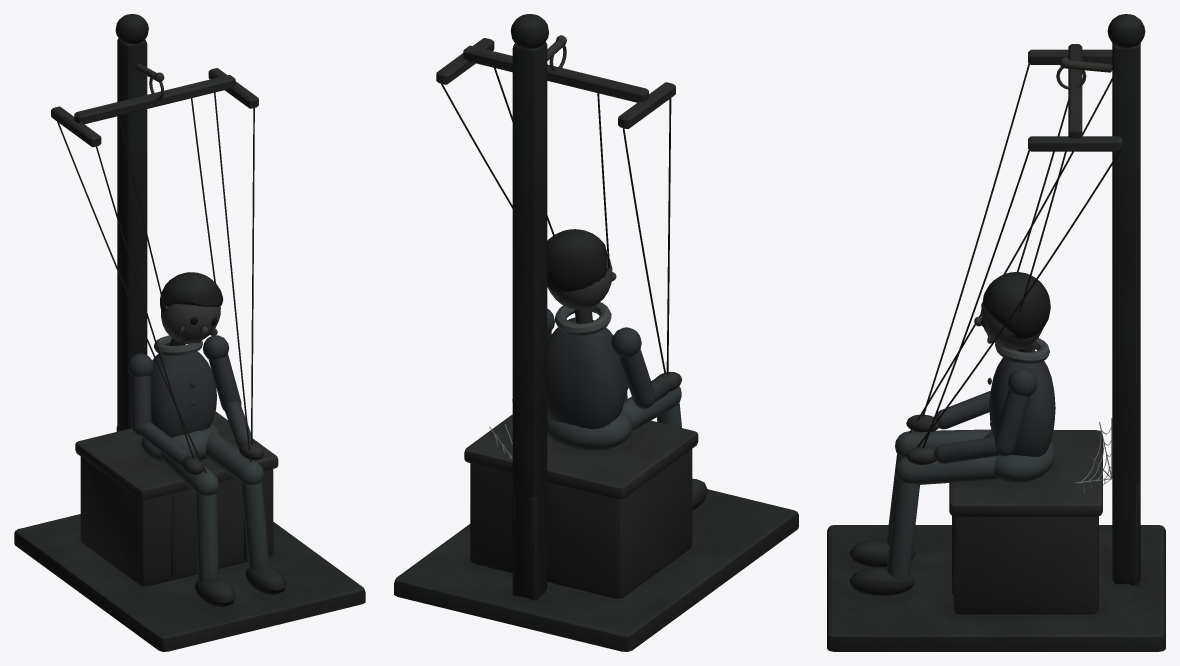
File: creepy-puppet.glb
The picture shows the model from 3 angles, left to right: view 1: azimuth 30°, elevation 25°; view 2: azimuth 150°, elevation 25°; view 3: azimuth 270°, elevation 25°; orthographic projection. The views are drawn at different scales.
Visible parts, largest first — view 1: creepy-puppet_body; view 2: creepy-puppet_body; view 3: creepy-puppet_body, creepy-puppet_web.
Boxes of the visible parts, bbox=[...] form: creepy-puppet_body: bbox=[14, 14, 365, 651]; creepy-puppet_body: bbox=[394, 14, 798, 651]; creepy-puppet_body: bbox=[827, 14, 1165, 651]; creepy-puppet_web: bbox=[1075, 418, 1112, 492].
Size of the model in its own units: 0.34 by 0.812 by 0.43.
2 materials, 1 textured.
